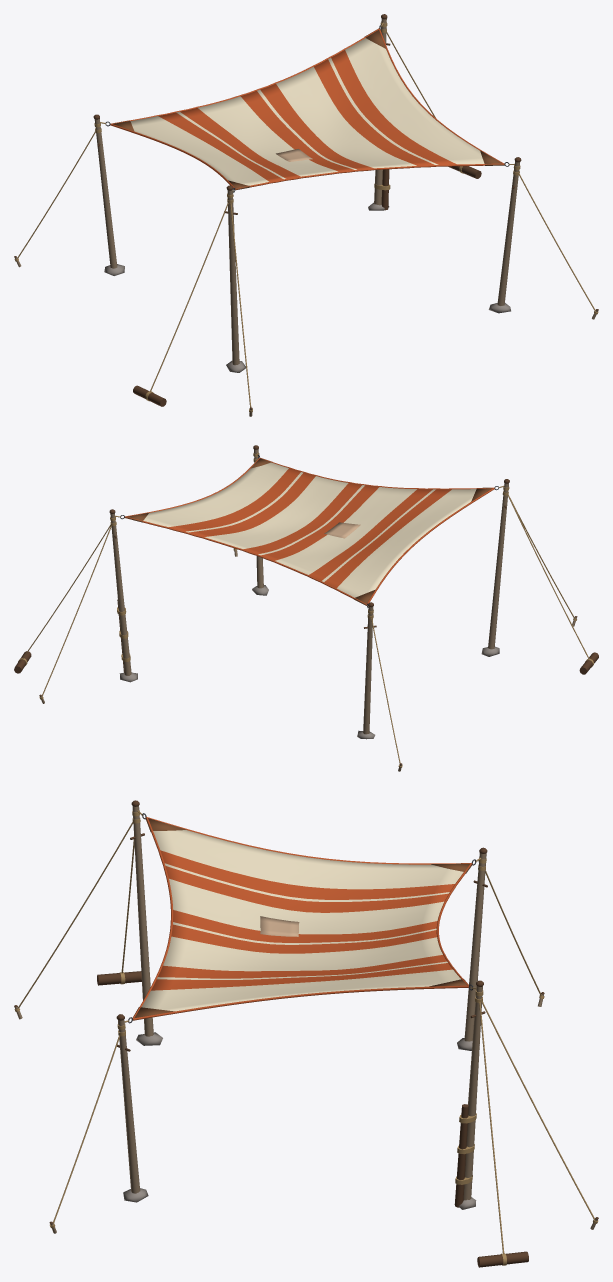
Rendered from deco_tent_sail_striped.fbx.
The picture shows the model from 3 angles, top to bottom: view 1: azimuth 30°, elevation 25°; view 2: azimuth 150°, elevation 25°; view 3: azimuth 270°, elevation 25°; orthographic projection. The views are drawn at different scales.
Visible parts, largest first — view 1: Tent_SailStriped_Canopy, Tent_SailStriped_Masts, Tent_SailStriped_Hem, Tent_SailStriped_Guys, Tent_SailStriped_Anchors; view 2: Tent_SailStriped_Canopy, Tent_SailStriped_Masts, Tent_SailStriped_Hem, Tent_SailStriped_Guys, Tent_SailStriped_Anchors; view 3: Tent_SailStriped_Canopy, Tent_SailStriped_Masts, Tent_SailStriped_Hem, Tent_SailStriped_Guys, Tent_SailStriped_Anchors, Tent_SailStriped_Rigging.
Part boxes in pixels (<box>): Tent_SailStriped_Canopy: <box>130,38,484,185</box>; Tent_SailStriped_Masts: <box>93,14,521,372</box>; Tent_SailStriped_Hem: <box>110,28,504,190</box>; Tent_SailStriped_Guys: <box>17,32,595,407</box>; Tent_SailStriped_Anchors: <box>14,166,598,416</box>; Tent_SailStriped_Canopy: <box>143,462,476,597</box>; Tent_SailStriped_Masts: <box>109,445,509,739</box>; Tent_SailStriped_Hem: <box>124,457,494,605</box>; Tent_SailStriped_Guys: <box>22,495,589,763</box>; Tent_SailStriped_Anchors: <box>14,548,598,771</box>; Tent_SailStriped_Canopy: <box>141,830,463,1011</box>; Tent_SailStriped_Masts: <box>116,800,487,1209</box>; Tent_SailStriped_Hem: <box>132,817,472,1020</box>; Tent_SailStriped_Guys: <box>18,822,594,1254</box>; Tent_SailStriped_Anchors: <box>14,971,598,1267</box>; Tent_SailStriped_Rigging: <box>117,810,487,1184</box>.
Bounding box in the file's own units: 1250 × 470 × 1063.
